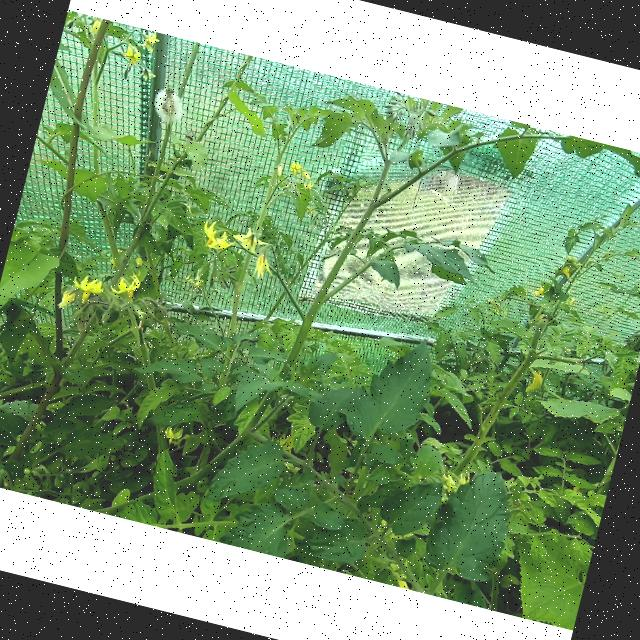Flowers: (66, 272, 106, 308), (198, 217, 235, 254), (233, 225, 270, 253), (108, 272, 142, 302), (250, 247, 277, 284), (524, 368, 550, 398), (54, 287, 78, 315), (120, 43, 143, 68), (272, 431, 296, 453), (436, 471, 459, 492), (161, 426, 184, 446), (298, 170, 318, 192), (142, 32, 162, 52), (526, 283, 548, 300), (556, 262, 574, 282), (85, 16, 104, 32), (183, 276, 203, 290), (287, 160, 303, 177), (274, 164, 284, 178), (134, 255, 144, 268)
